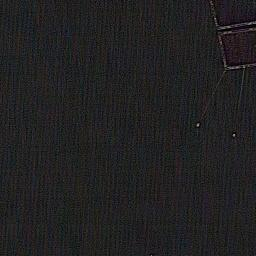square_locked: (215, 29, 256, 73), (209, 1, 256, 34)
